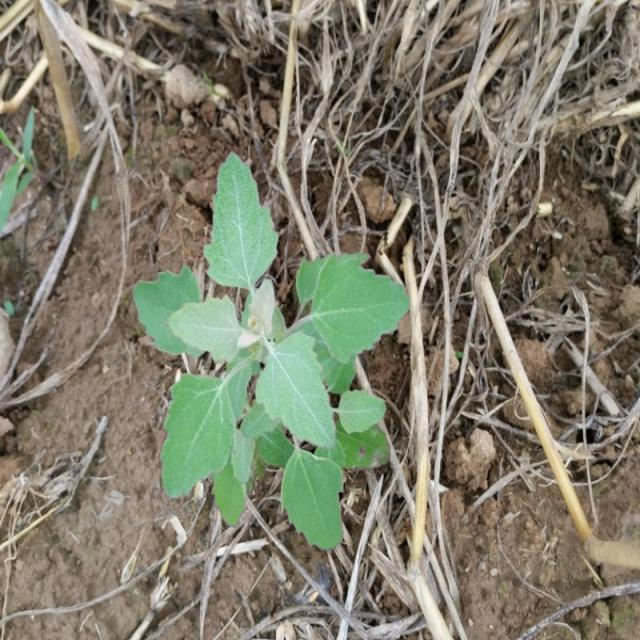goosefoots: (134, 161, 398, 539)
